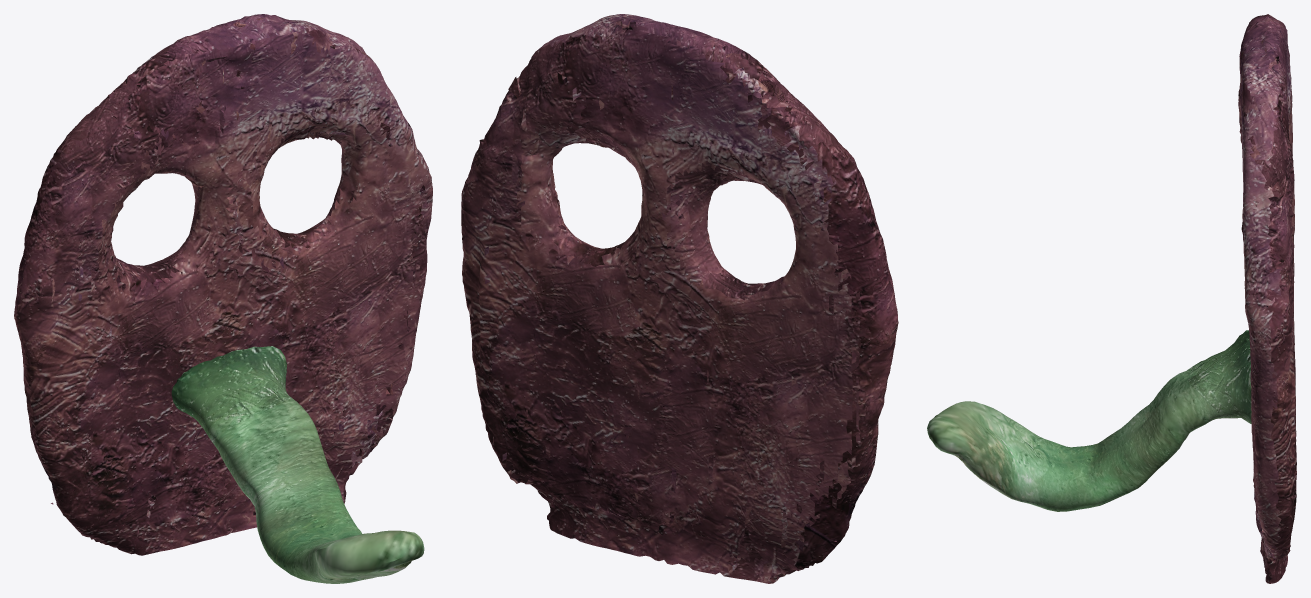
Rendered from xenoglossy-iii-Gesicht_v31-3.glb.
3 renders of one model, left to right at view 1: azimuth 30°, elevation 25°; view 2: azimuth 150°, elevation 25°; view 3: azimuth 270°, elevation 25°, orthographic. The views are drawn at different scales.
Parts seen in each view (by area): view 1: Gesicht, Zunge (Copy); view 2: Gesicht; view 3: Gesicht, Zunge (Copy).
Part boxes in pixels (x1,y1,x2,y2): Gesicht: [14, 14, 432, 555]; Zunge (Copy): [171, 346, 424, 583]; Gesicht: [461, 14, 898, 583]; Gesicht: [1238, 14, 1296, 583]; Zunge (Copy): [927, 330, 1251, 511].
Bounding box in the file's own units: 1.42 × 1.66 × 1.12.
1 material, 1 textured.
